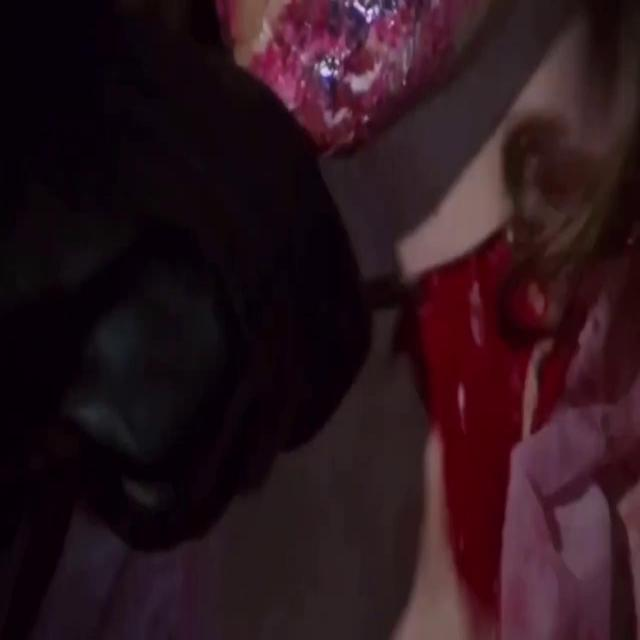flood: (397, 198, 579, 604)
